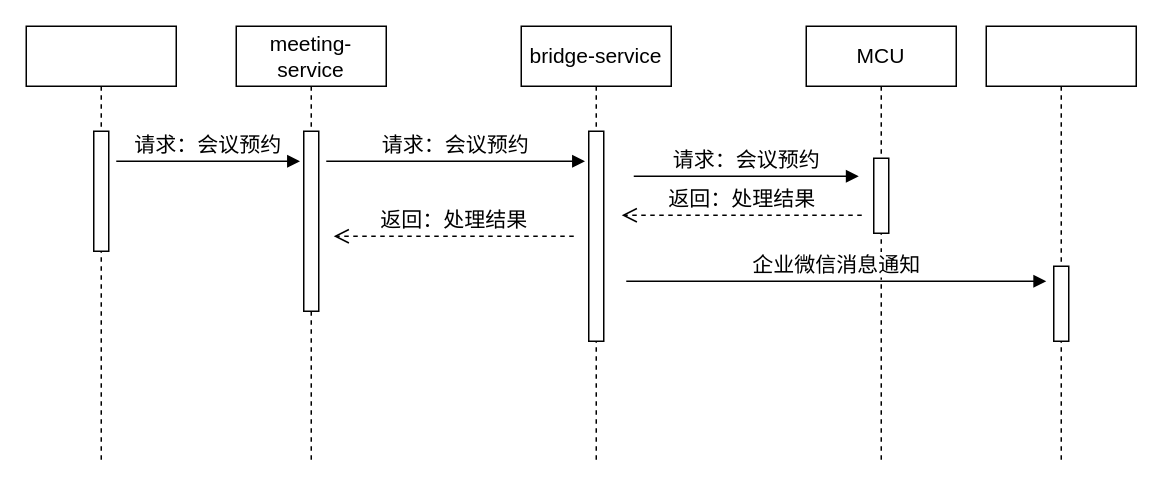
This 1163x488 diagram has some shape labels left out. The shapes that lost their labels are listed below. From the top down, each one's centre as x and y in pixels, then its label:
point 100,243: Web？
point 1060,243: 企业微信？
